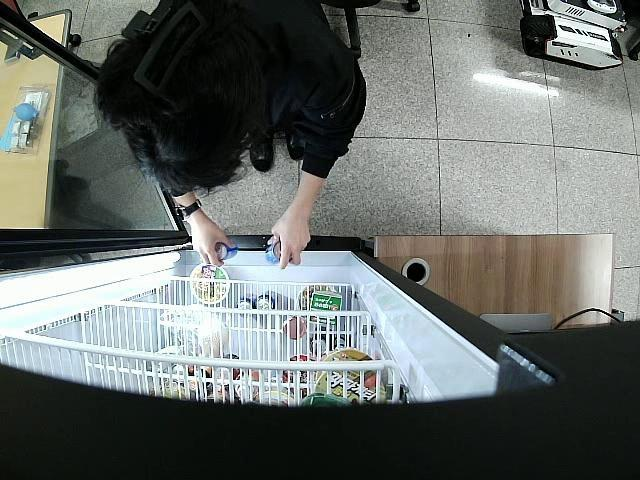15_letsbe: (215, 238, 239, 262), (265, 242, 284, 266)
